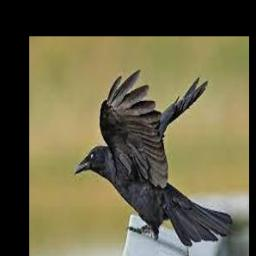Crow: (74, 70, 232, 246)
